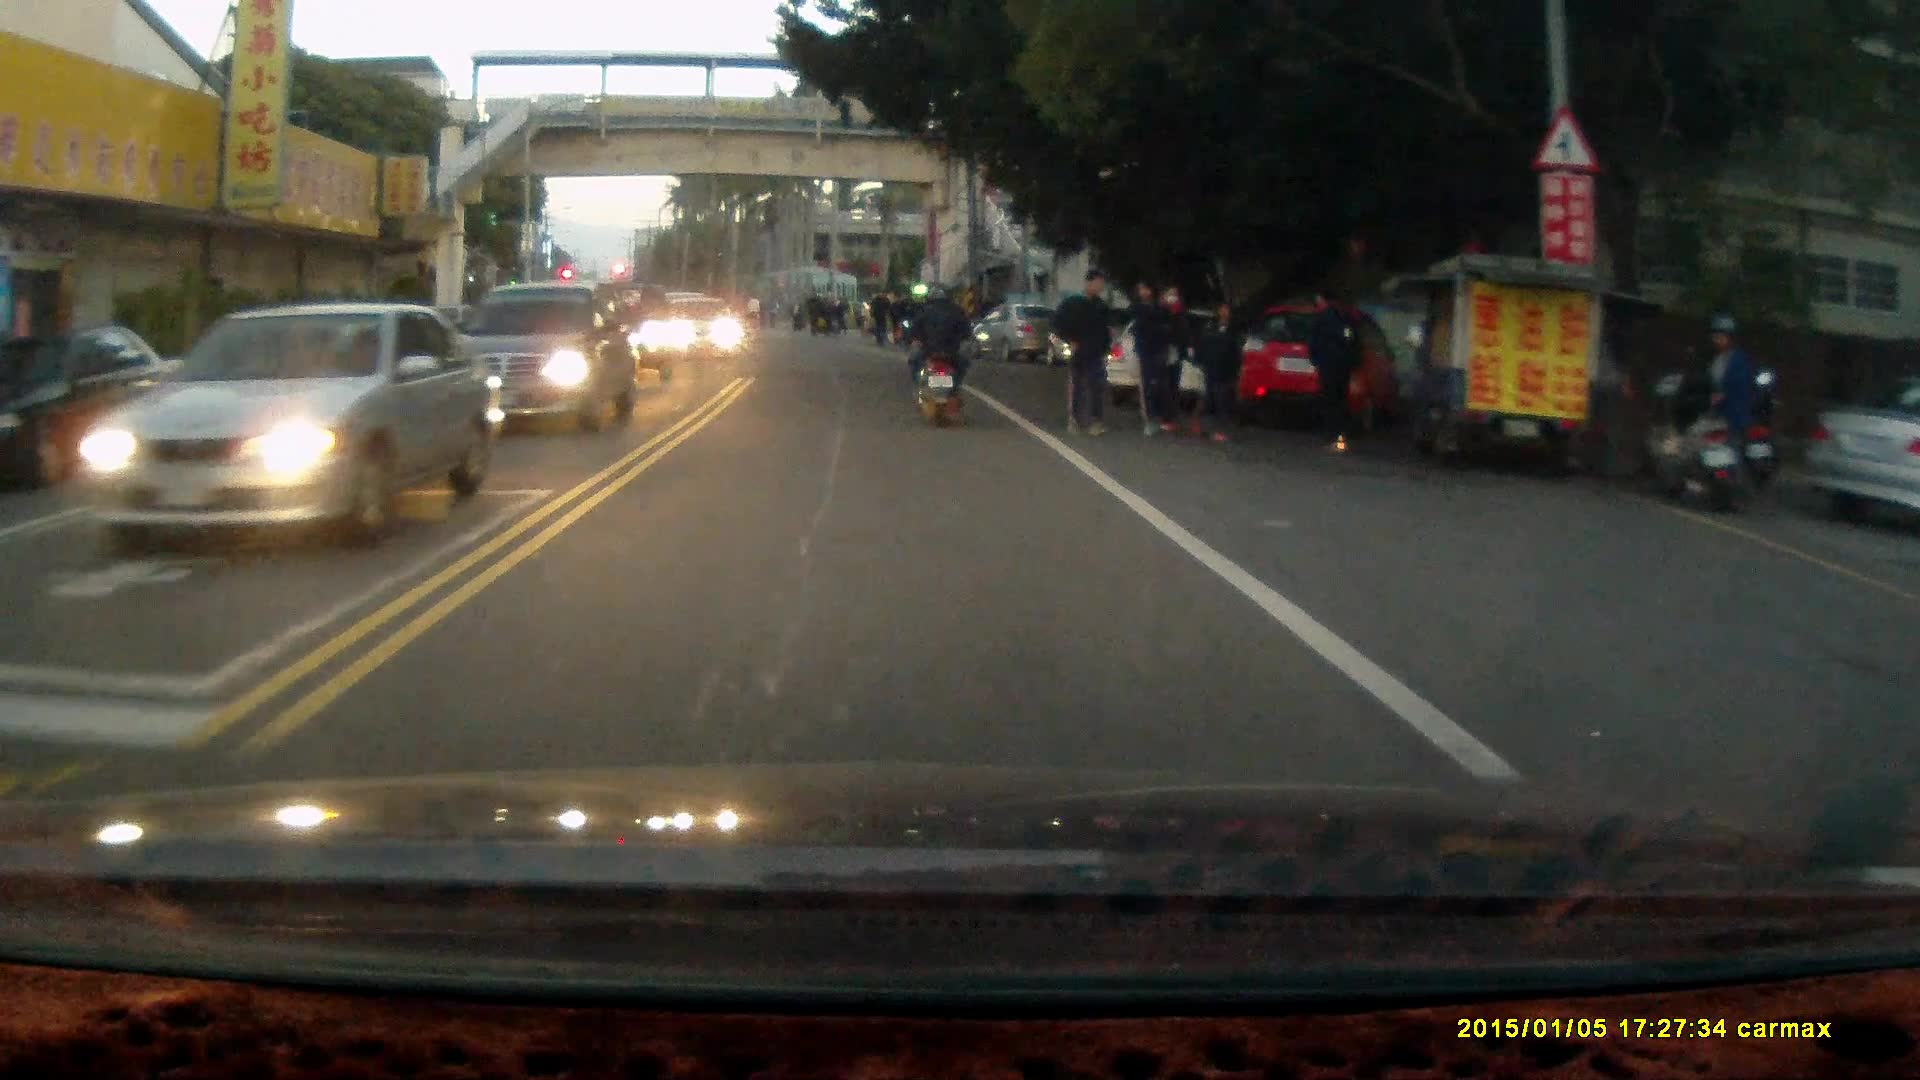pedestrian: (1712, 292, 1773, 485), (1051, 266, 1116, 440), (1300, 284, 1366, 449), (1189, 293, 1249, 446), (1127, 280, 1176, 440)
rider: (900, 278, 974, 430)
vehicle: (54, 299, 485, 543), (1, 326, 195, 491), (459, 278, 637, 430), (1227, 298, 1397, 424), (1097, 302, 1286, 416), (1801, 379, 1920, 538), (663, 296, 750, 362), (981, 302, 1062, 363)
